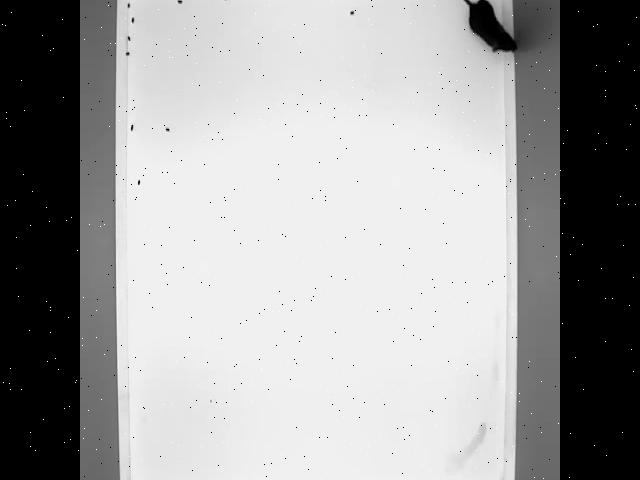Tikus: (411, 0, 513, 49)
